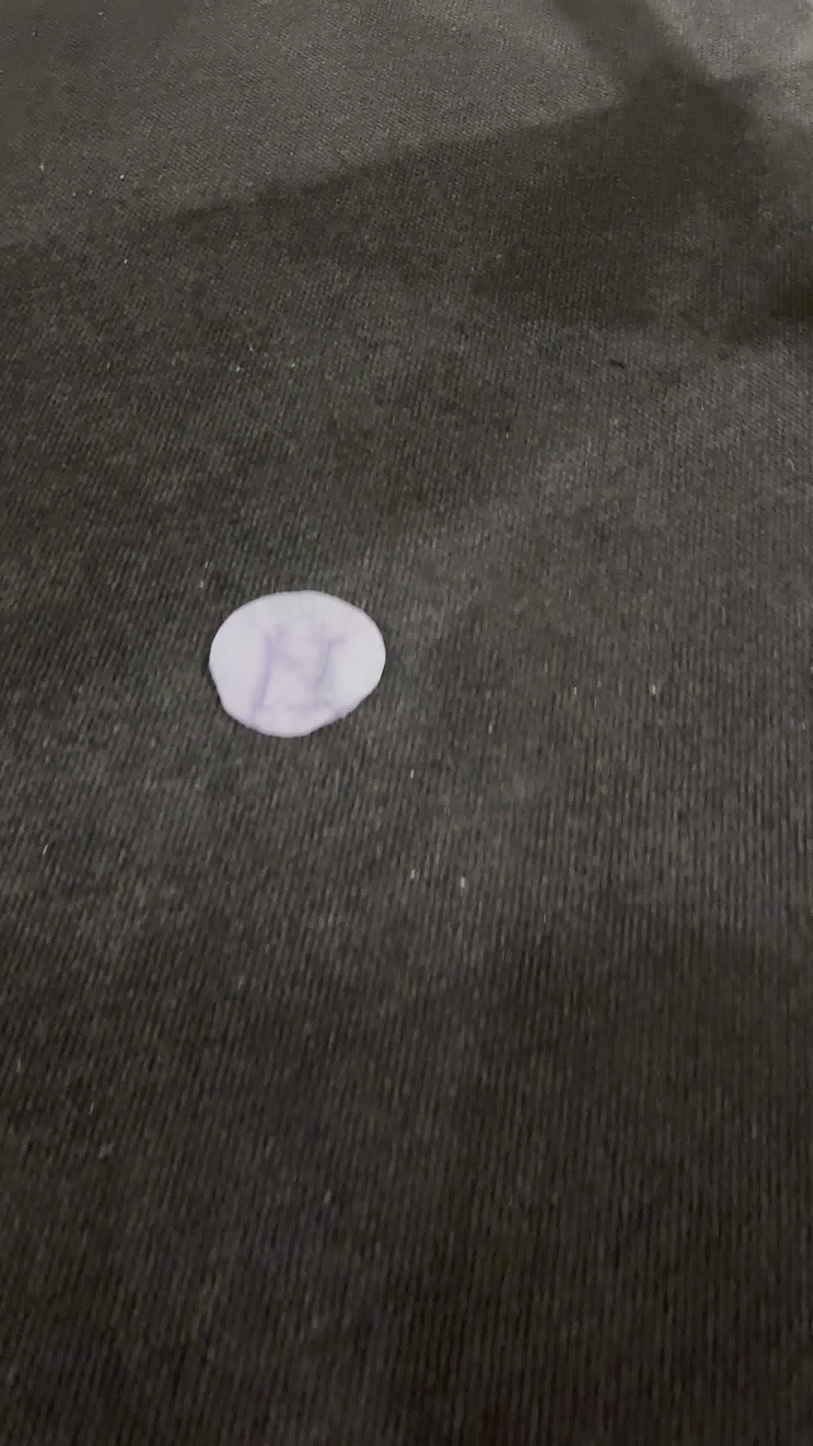Target: (204, 584, 391, 743)
